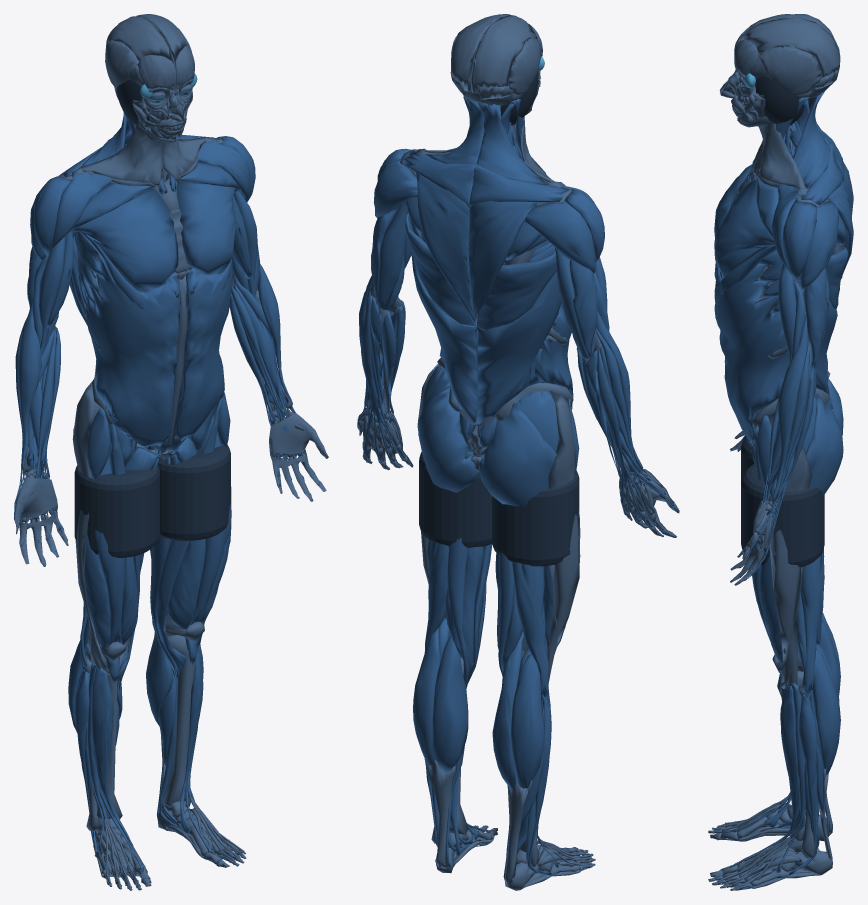
Rendered from male.glb.
3 views of the same model, side by side, from view 1: azimuth 30°, elevation 25°; view 2: azimuth 150°, elevation 25°; view 3: azimuth 270°, elevation 25° (orthographic). The views are drawn at different scales.
Visible parts, largest first — view 1: connective_tissue__mobile.001, external_oblique_right__mobile.001, skeleton__mobile.001, head_hands_feet__mobile.001, Athlete_Training_Shorts, pectoralis_major_sternocostal_right__mobile.001, external_oblique_left__mobile.001, Athlete_Training_Shorts.001, pectoralis_major_sternocostal_left__mobile.001, tibialis_anterior_right__mobile.001, sartorius_left__mobile.002, vastus_medialis_left__mobile.002 (+35 smaller); view 2: connective_tissue__mobile.001, latissimus_dorsi_right__mobile.001, skeleton__mobile.001, latissimus_dorsi_left__mobile.001, Athlete_Training_Shorts, gluteus_maximus_right__mobile.001, head_hands_feet__mobile.001, trapezius_upper_left__mobile.001, Athlete_Training_Shorts.001, trapezius_upper_right__mobile.001, gluteus_maximus_left__mobile.001, gastrocnemius_medial_left__mobile.001 (+31 smaller); view 3: connective_tissue__mobile.001, head_hands_feet__mobile.001, external_oblique_left__mobile.001, skeleton__mobile.001, Athlete_Training_Shorts.001, pectoralis_major_sternocostal_left__mobile.001, gluteus_maximus_left__mobile.001, gastrocnemius_lateral_left__mobile.001, biceps_femoris_long_left__mobile.002, brachioradialis_muscle_left__mobile.001, deltoid_lateral_left__mobile.002, deltoid_posterior_left__mobile.002 (+30 smaller).
Part boxes in pixels (x1,y1,x2,y2): connective_tissue__mobile.001: (15,14,328,885); external_oblique_right__mobile.001: (86,258,180,446); skeleton__mobile.001: (15,22,328,890); head_hands_feet__mobile.001: (19,27,312,885); Athlete_Training_Shorts: (74,465,159,557); pectoralis_major_sternocostal_right__mobile.001: (69,188,178,292); external_oblique_left__mobile.001: (174,260,232,441); Athlete_Training_Shorts.001: (148,445,230,540); pectoralis_major_sternocostal_left__mobile.001: (176,181,237,274); tibialis_anterior_right__mobile.001: (91,667,133,845); sartorius_left__mobile.002: (156,396,223,676); vastus_medialis_left__mobile.002: (168,539,205,650); connective_tissue__mobile.001: (359,14,679,888); latissimus_dorsi_right__mobile.001: (476,251,561,424); skeleton__mobile.001: (358,16,679,890); latissimus_dorsi_left__mobile.001: (405,213,477,422); Athlete_Training_Shorts: (492,470,579,566); gluteus_maximus_right__mobile.001: (479,402,556,506); head_hands_feet__mobile.001: (362,24,662,888); trapezius_upper_left__mobile.001: (415,172,476,326); Athlete_Training_Shorts.001: (419,452,491,548); trapezius_upper_right__mobile.001: (469,201,539,325); gluteus_maximus_left__mobile.001: (418,388,478,492); gastrocnemius_medial_left__mobile.001: (432,634,468,772); connective_tissue__mobile.001: (714,14,840,888); head_hands_feet__mobile.001: (721,28,839,889); external_oblique_left__mobile.001: (714,263,789,441); skeleton__mobile.001: (708,18,844,890); Athlete_Training_Shorts.001: (741,464,824,567); pectoralis_major_sternocostal_left__mobile.001: (714,180,774,278); gluteus_maximus_left__mobile.001: (806,393,843,495); gastrocnemius_lateral_left__mobile.001: (812,649,840,775); biceps_femoris_long_left__mobile.002: (800,552,824,694); brachioradialis_muscle_left__mobile.001: (771,316,808,501); deltoid_lateral_left__mobile.002: (782,201,816,283); deltoid_posterior_left__mobile.002: (799,201,838,291).
Bounding box in the file's own units: 1.5 × 3.8 × 0.5963.
